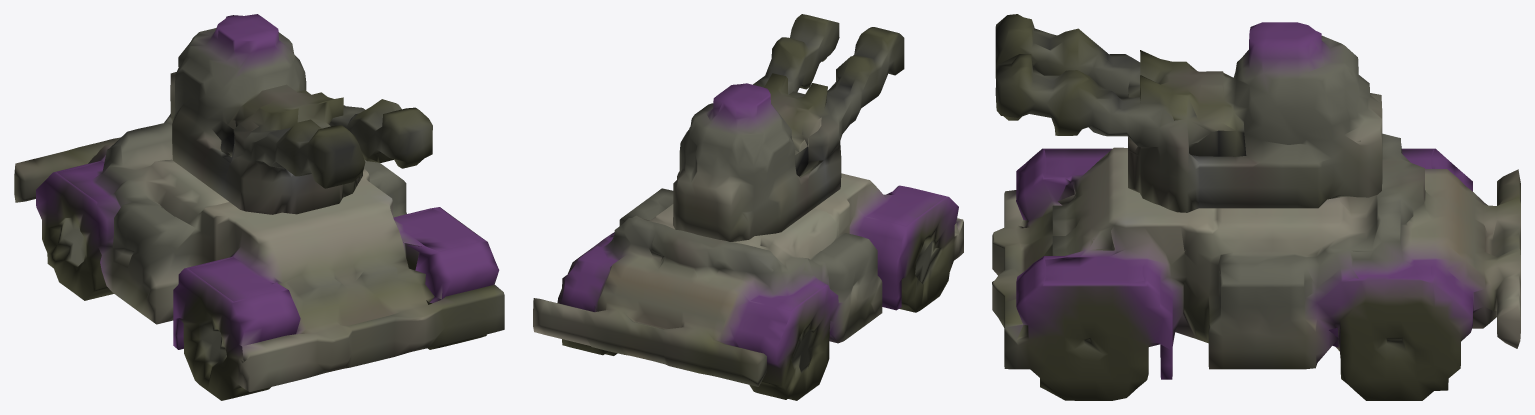
File: gattling_tank.glb
3 renders of one model, left to right at view 1: azimuth 30°, elevation 25°; view 2: azimuth 150°, elevation 25°; view 3: azimuth 270°, elevation 25°, orthographic. The views are drawn at different scales.
Parts seen in each view (by area): view 1: Hull, Turret; view 2: Hull, Turret; view 3: Hull, Turret.
Part boxes in pixels (<box>): Hull: <box>14,114,504,400</box>; Turret: <box>170,14,432,214</box>; Hull: <box>533,173,963,400</box>; Turret: <box>673,14,904,241</box>; Hull: <box>992,133,1520,400</box>; Turret: <box>995,14,1382,212</box>.
Size of what is drawn, in the model's own units: 2.22 by 2.25 by 3.62.
